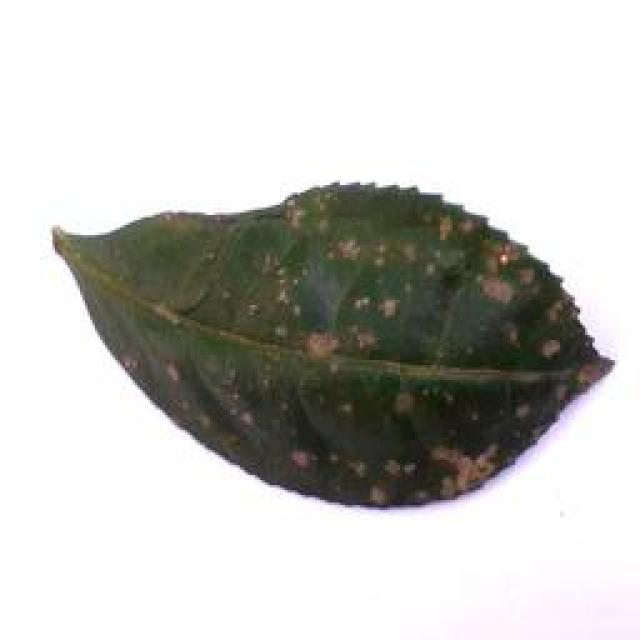Algal Leaf Spot: (35, 166, 619, 523)
